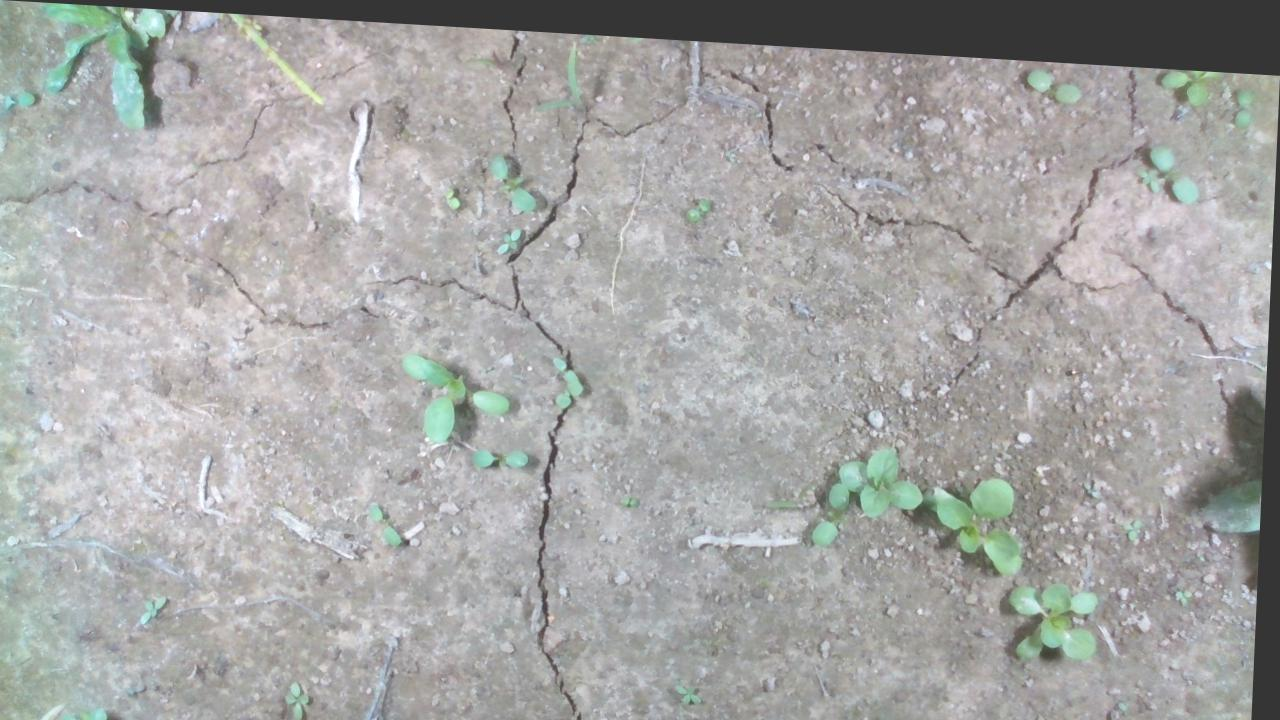weed: (473, 436, 555, 481), (1146, 130, 1203, 189), (608, 475, 673, 509), (365, 499, 412, 544), (1025, 54, 1083, 90), (135, 587, 181, 623), (281, 673, 325, 708), (682, 186, 724, 217), (497, 222, 535, 255), (1229, 71, 1255, 110), (678, 670, 710, 696), (1135, 152, 1165, 179), (440, 179, 466, 203)
